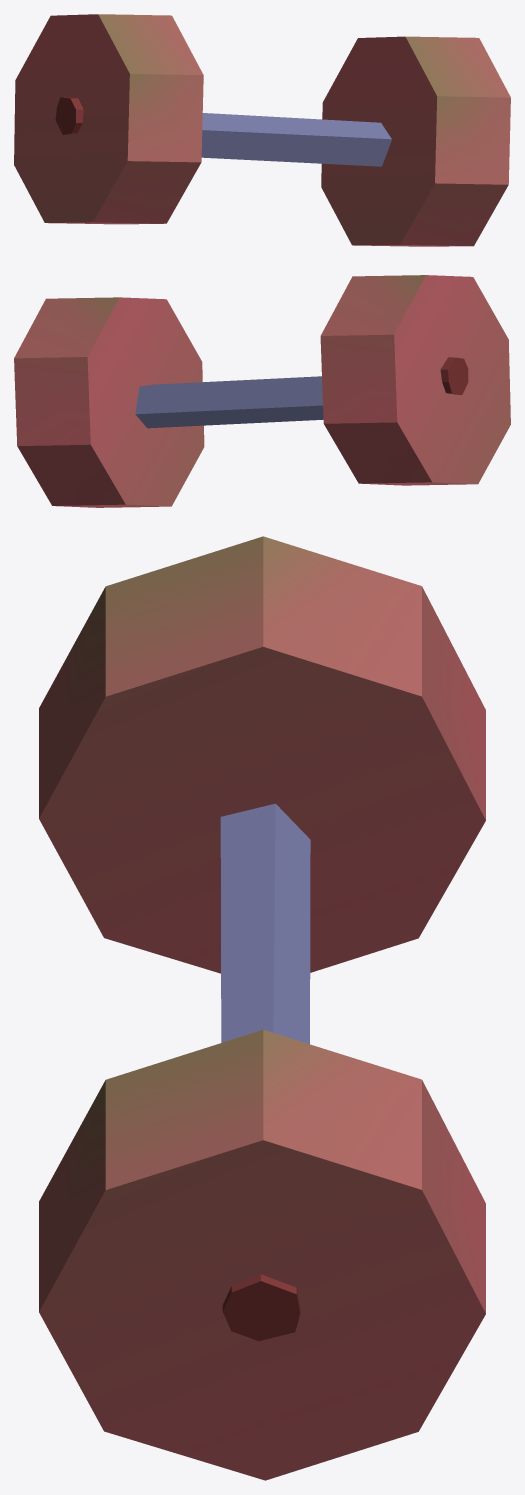
Rendered from Gym_Dumbells__Dum2.fbx.
The picture shows the model from 3 angles, top to bottom: view 1: azimuth 30°, elevation 25°; view 2: azimuth 150°, elevation 25°; view 3: azimuth 270°, elevation 25°; orthographic projection. The views are drawn at different scales.
Parts seen in each view (by area): view 1: Gym_Dumbells__Dum2; view 2: Gym_Dumbells__Dum2; view 3: Gym_Dumbells__Dum2.
Boxes of the visible parts, x1,y1,x2,y2 form: Gym_Dumbells__Dum2: [14, 14, 510, 246]; Gym_Dumbells__Dum2: [14, 275, 510, 507]; Gym_Dumbells__Dum2: [39, 536, 485, 1480].
Bounding box in the file's own units: 58.75 × 40.52 × 26.28.
